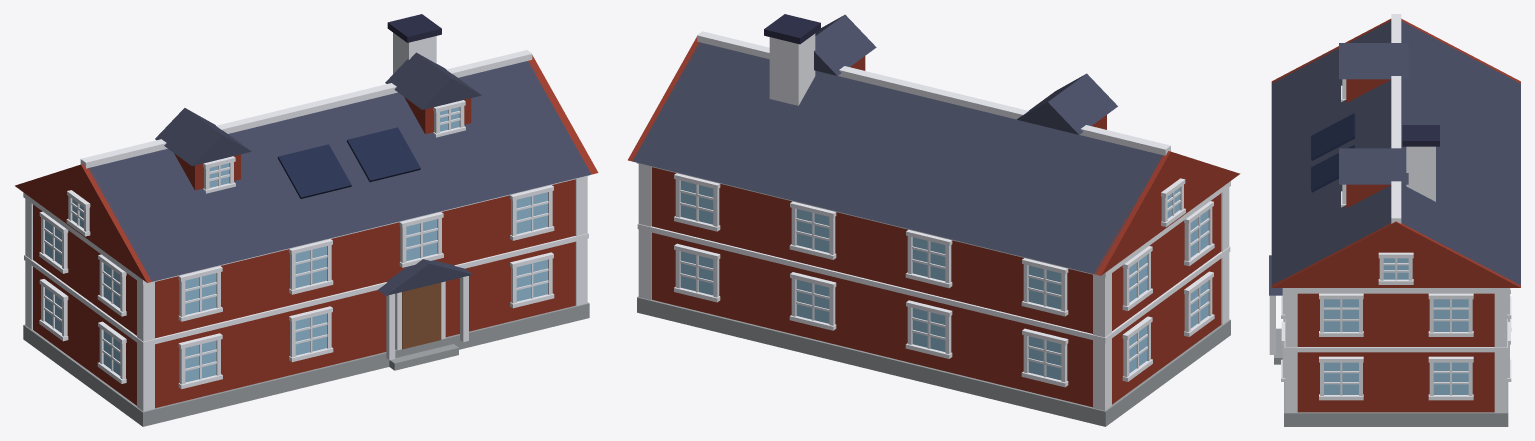
The model's file is house-2x1-2f-third-stuga-a-solar.glb.
3 renders of one model, left to right at view 1: azimuth 30°, elevation 25°; view 2: azimuth 150°, elevation 25°; view 3: azimuth 270°, elevation 25°, orthographic. The views are drawn at different scales.
Visible parts, largest first — view 1: house-2x1-2f-third-stuga-a-solar; view 2: house-2x1-2f-third-stuga-a-solar; view 3: house-2x1-2f-third-stuga-a-solar.
Boxes of the visible parts, x1,y1,x2,y2 form: house-2x1-2f-third-stuga-a-solar: (15,14,598,426); house-2x1-2f-third-stuga-a-solar: (628,14,1240,426); house-2x1-2f-third-stuga-a-solar: (1269,14,1520,426).
Size of the model in its own units: 2 by 1.1 by 1.01.
Materials: 1 (1 with a texture image).
